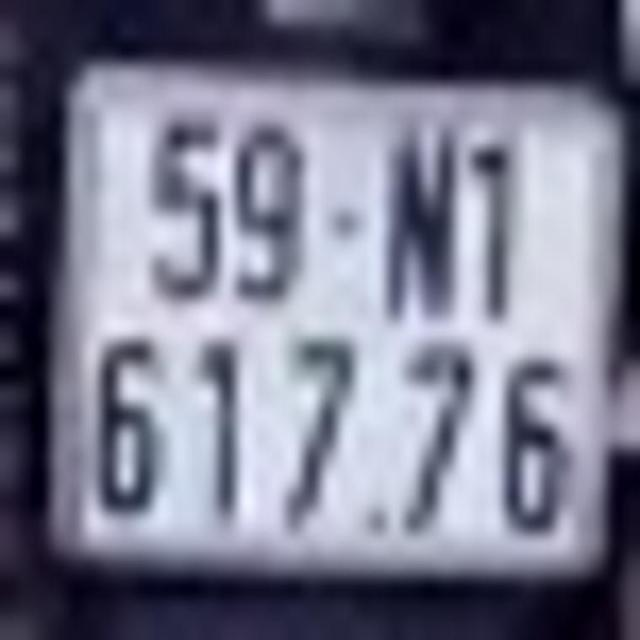1: (193, 334, 242, 526), (471, 132, 517, 324)
5: (151, 114, 225, 303)
6: (504, 351, 574, 540), (92, 335, 156, 507)
7: (400, 343, 474, 532), (282, 333, 352, 532)
9: (234, 119, 306, 307)
N: (382, 116, 461, 318)
